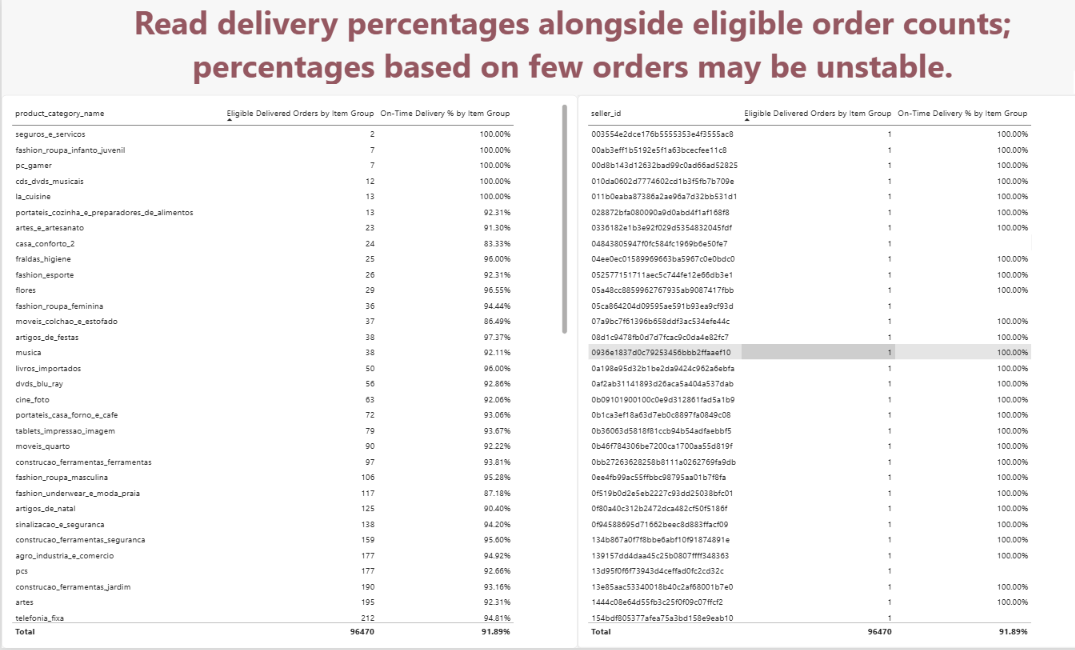

What the dashboard file says about the page in this screenshot:
{"tool":"powerbi","page":{"name":"Sample Size Check","canvas":[1920,1080],"ordinal":3},"visuals":[{"type":"tableEx","fields":{"Values":["gold fact_order_items.seller_id","gold fact_order_items.Eligible Delivered Orders by Item Group","gold fact_order_items.On-Time Delivery % by Item Group"]},"box":[960,157.5,960,922.5],"z":0},{"type":"tableEx","fields":{"Values":["gold fact_order_items.product_category_name","gold fact_order_items.Eligible Delivered Orders by Item Group","gold fact_order_items.On-Time Delivery % by Item Group"]},"box":[0,157.5,960,922.5],"z":1000},{"type":"textbox","box":[0,0,1710,140],"z":2000}]}

Visuals, with their boxes on the page's 1920x1080 design canvas (x1, y1, x2, y2). These are canvas units, not pixel positions in the 1075x650 screenshot, which may show the page scaled, cropped or inside an application window:
tableEx - gold fact_order_items.seller_id x gold fact_order_items.Eligible Delivered Orders by Item Group: 960, 158, 1920, 1080
tableEx - gold fact_order_items.product_category_name x gold fact_order_items.Eligible Delivered Orders by Item Group: 0, 158, 960, 1080
textbox: 0, 0, 1710, 140
